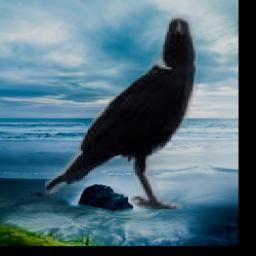Crow: (45, 15, 199, 209)
